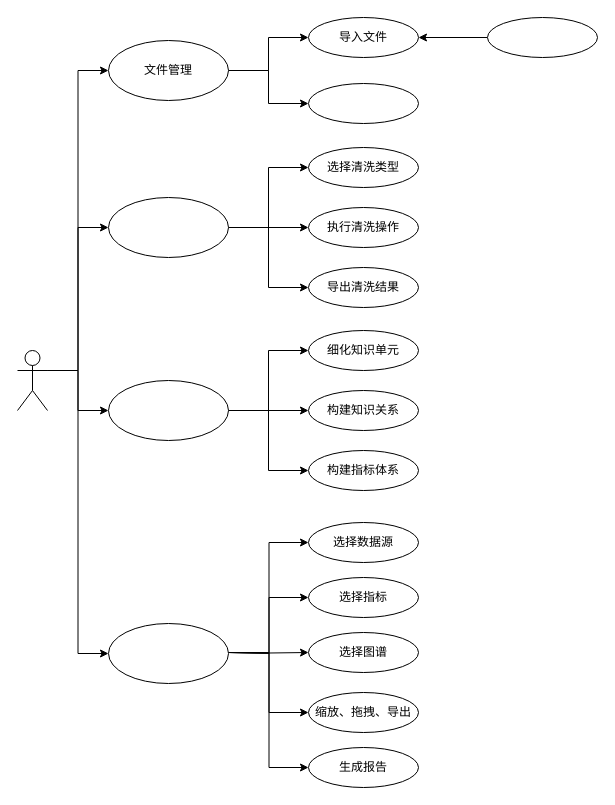
Some shapes in this 615 by 805 pixel diagram are drawn without their labels. The centre of each missing label's shape, as x and y in pixels:
"删除文件" belongs at [363,103].
"数据分析" belongs at [168,410].
"数据清洗" belongs at [168,227].
"用户" belongs at [32,380].
"绘制图谱" belongs at [168,653].
"解析文件" belongs at [542,37].
